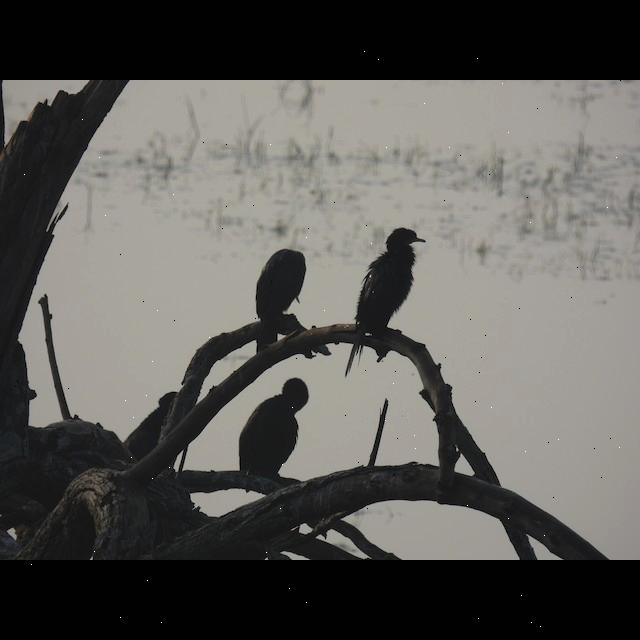cormorant: (342, 225, 428, 361), (237, 374, 313, 492)
